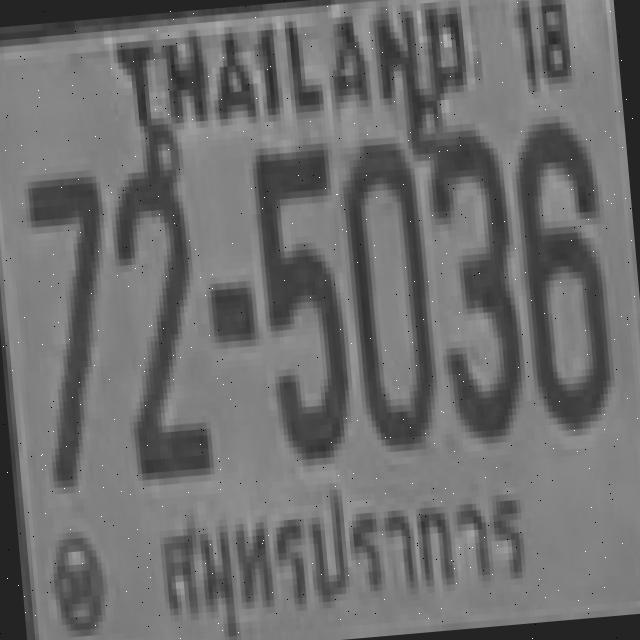0: (334, 135, 438, 447)
2: (106, 158, 210, 477)
3: (421, 121, 524, 433)
5: (248, 143, 352, 454)
6: (506, 113, 614, 426)
7: (22, 169, 122, 481)
SamutPrakan: (143, 447, 545, 640)
